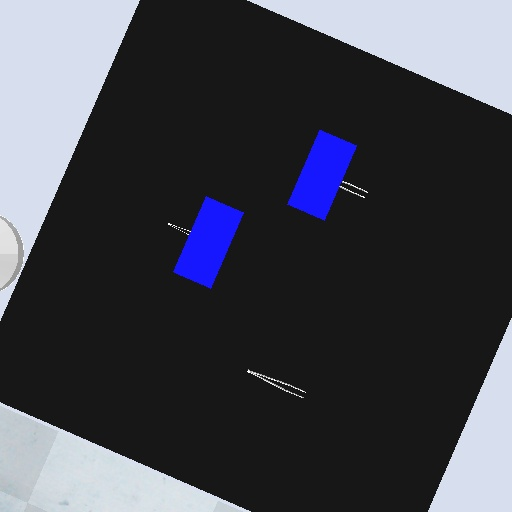pinza: (244, 365, 310, 404), (337, 180, 372, 201), (164, 220, 194, 238)
